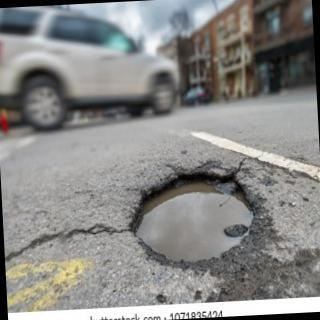pothole: (133, 180, 254, 264)
